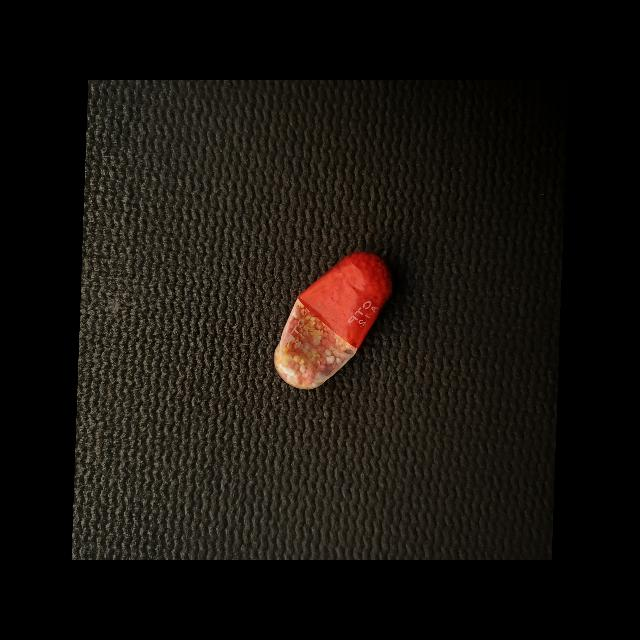Defective Capsule: (274, 251, 392, 390)
